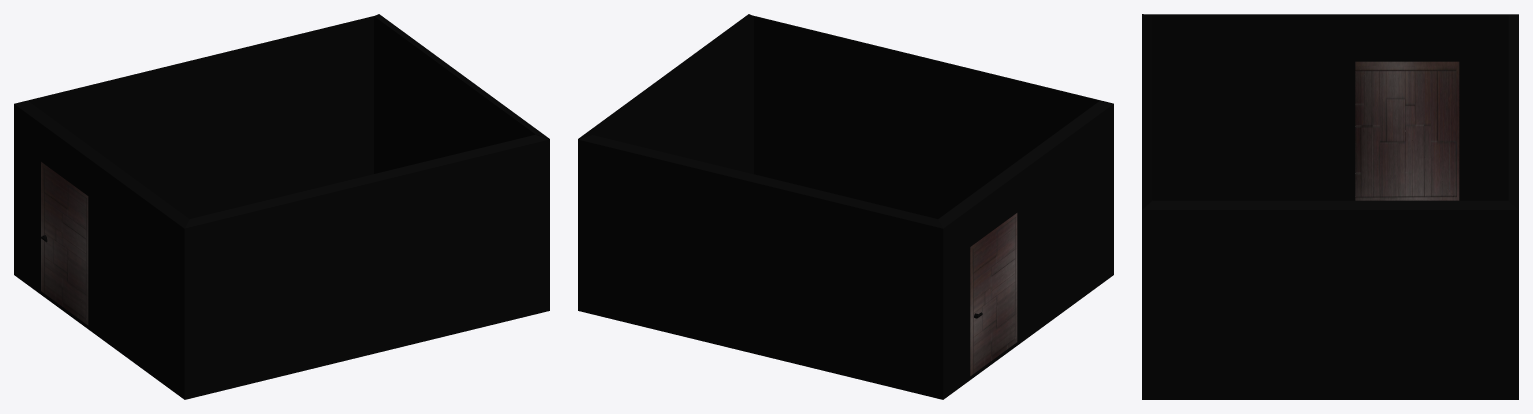
Rendered from Room.obj.
The picture shows the model from 3 angles, left to right: view 1: azimuth 30°, elevation 25°; view 2: azimuth 150°, elevation 25°; view 3: azimuth 270°, elevation 25°; orthographic projection. The views are drawn at different scales.
Parts seen in each view (by area): view 1: Room_Cube.001, Door_Cube.002; view 2: Room_Cube.001, Door_Cube.002; view 3: Room_Cube.001, Door_Cube.002.
Part boxes in pixels (x1,y1,x2,y2): Room_Cube.001: (14, 14, 549, 399); Door_Cube.002: (41, 162, 88, 325); Room_Cube.001: (578, 14, 1113, 399); Door_Cube.002: (970, 213, 1017, 375); Room_Cube.001: (1142, 14, 1518, 399); Door_Cube.002: (1355, 61, 1459, 200).
Size of the model in its own units: 21.35 by 9.71 by 17.1.
3 materials, 2 textured.
